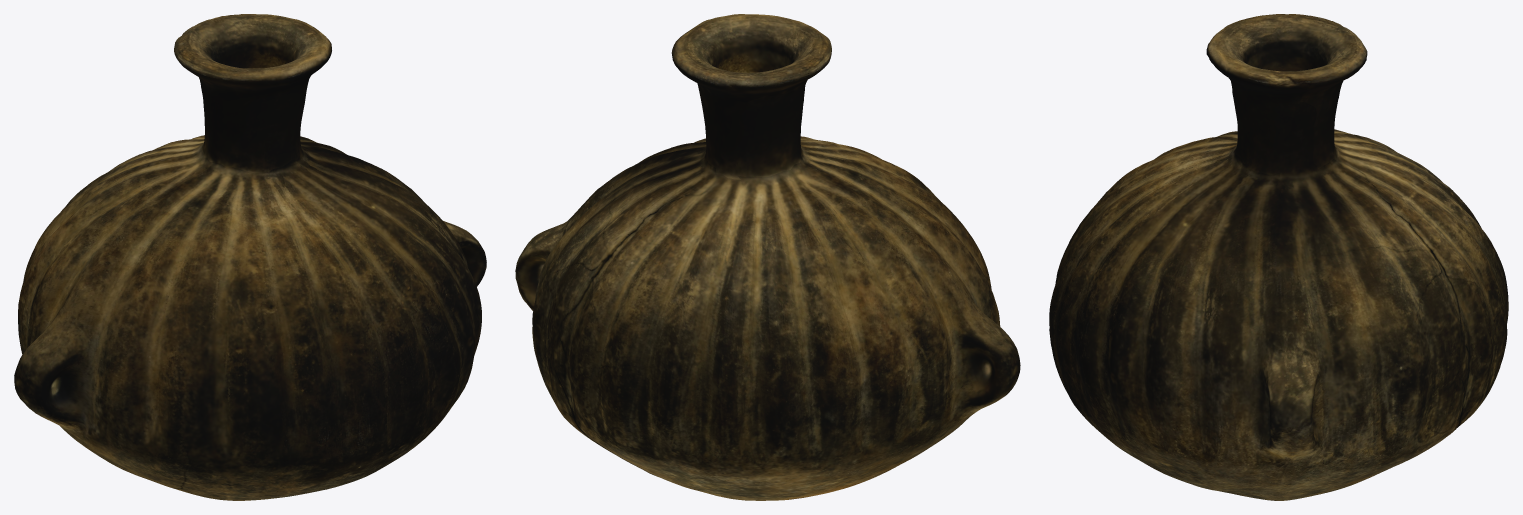
The model's file is botella_escultorica_ar.glb.
3 views of the same model, side by side, from view 1: azimuth 30°, elevation 25°; view 2: azimuth 150°, elevation 25°; view 3: azimuth 270°, elevation 25° (orthographic).
Visible parts, largest first — view 1: Model; view 2: Model; view 3: Model.
Boxes of the visible parts, left/top/right/bottom form: Model: left=14, top=14, right=486, bottom=500; Model: left=515, top=14, right=1020, bottom=500; Model: left=1049, top=14, right=1508, bottom=500.
Size of the model in its own units: 5.48 by 4.65 by 4.55.
1 material, 1 textured.
